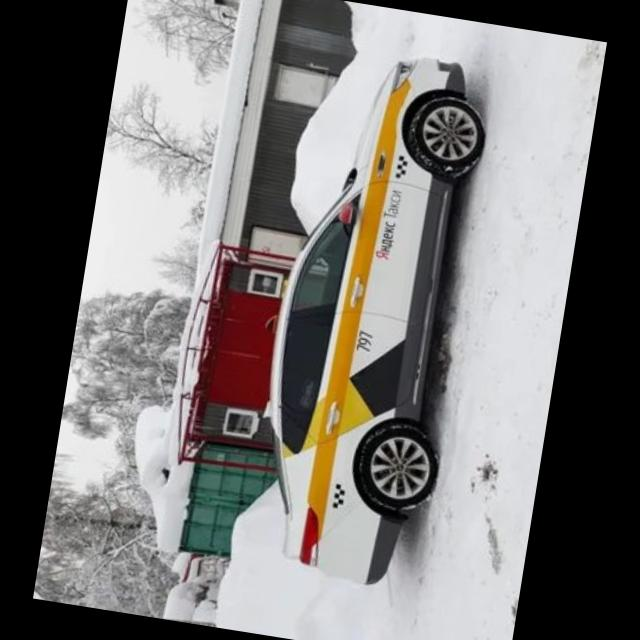taxi: (235, 41, 503, 595)
